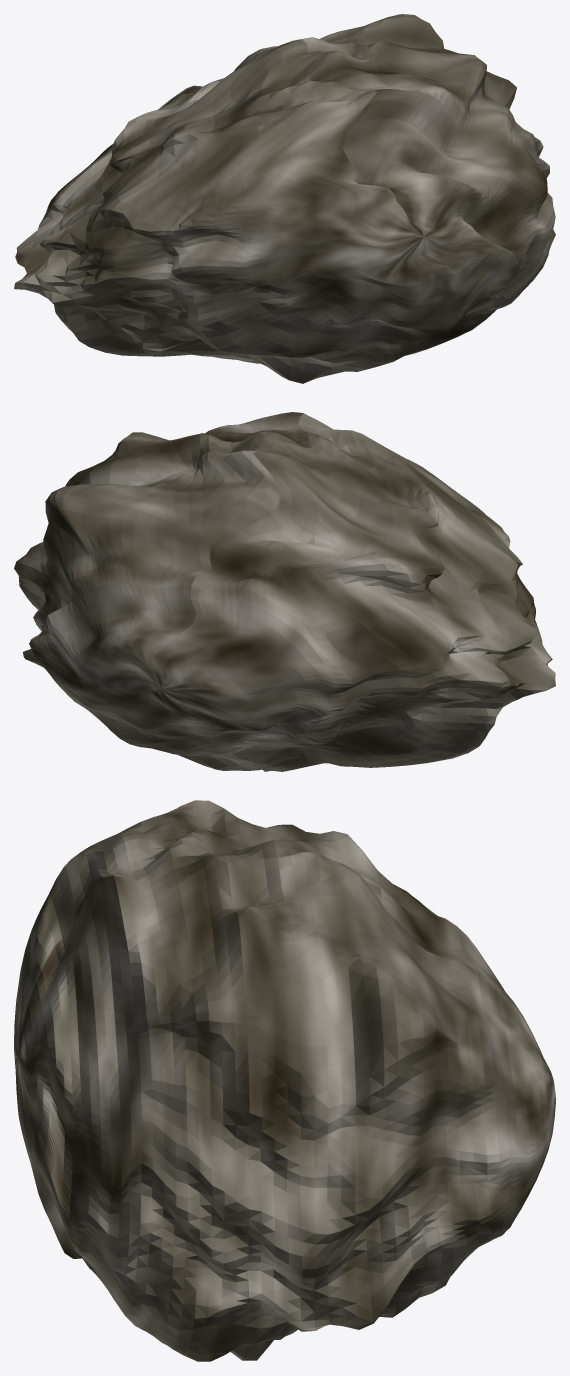
The model's file is asteroid OBJ-fix.obj.
3 views of the same model, one above another, from view 1: azimuth 30°, elevation 25°; view 2: azimuth 150°, elevation 25°; view 3: azimuth 270°, elevation 25° (orthographic). The views are drawn at different scales.
Visible parts, largest first — view 1: Sphere01; view 2: Sphere01; view 3: Sphere01.
Part boxes in pixels (x1=…): Sphere01: x1=14, y1=14, x2=555, y2=383; Sphere01: x1=14, y1=412, x2=555, y2=771; Sphere01: x1=14, y1=800, x2=555, y2=1361.
Bounding box in the file's own units: 39.05 × 23.17 × 24.69.
